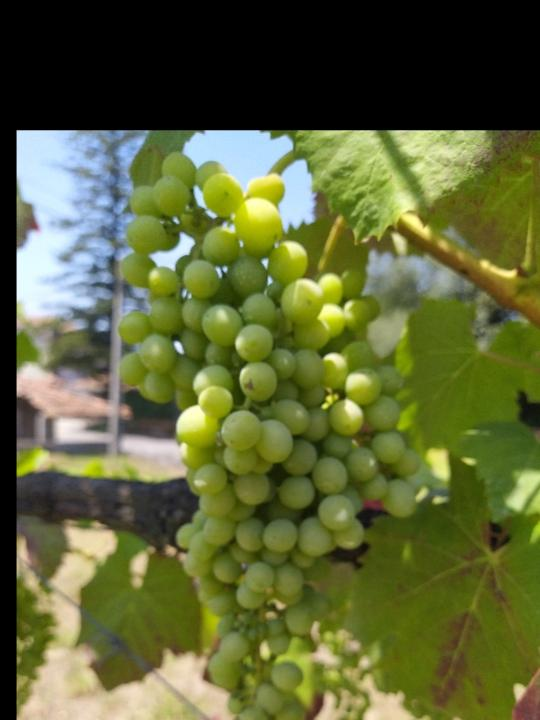grape: (113, 143, 419, 720)
